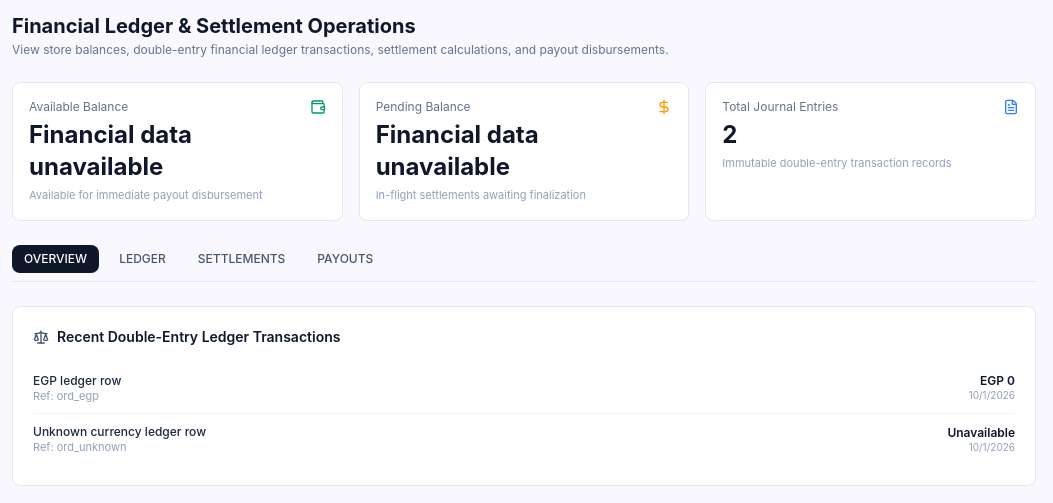
Test: SDS-1 — Seller Dashboard P0 Data Truth › Finance Currency Data Truth › uses each financial record currency and renders unavailable instead of missing-currency or error fallbacks
Expected: the text "Financial data unavailable" is shown 2 times, top-left (29, 120), bottom-right (192, 181); top-left (376, 120), bottom-right (539, 181)
Expected: the text "EGP 0" is shown, top-left (980, 373), bottom-right (1015, 388)
Click the button "SETTLEMENTS": {"x": 242, "y": 258} top-left (186, 244), bottom-right (297, 272)
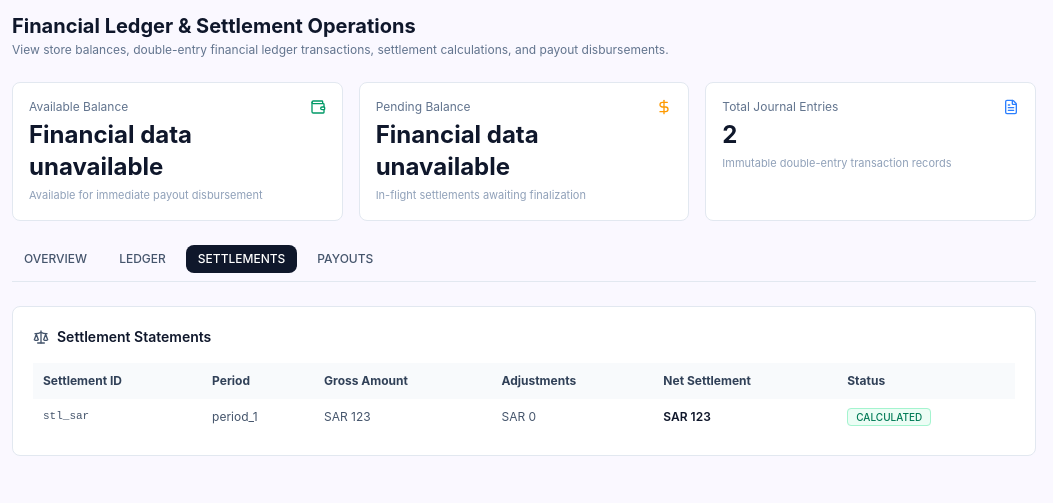
Expected: the text "SAR 123" is shown 2 times, top-left (314, 398), bottom-right (492, 434); top-left (653, 398), bottom-right (837, 434)
Click the button "PAYOUTS": {"x": 345, "y": 258} top-left (305, 244), bottom-right (385, 272)
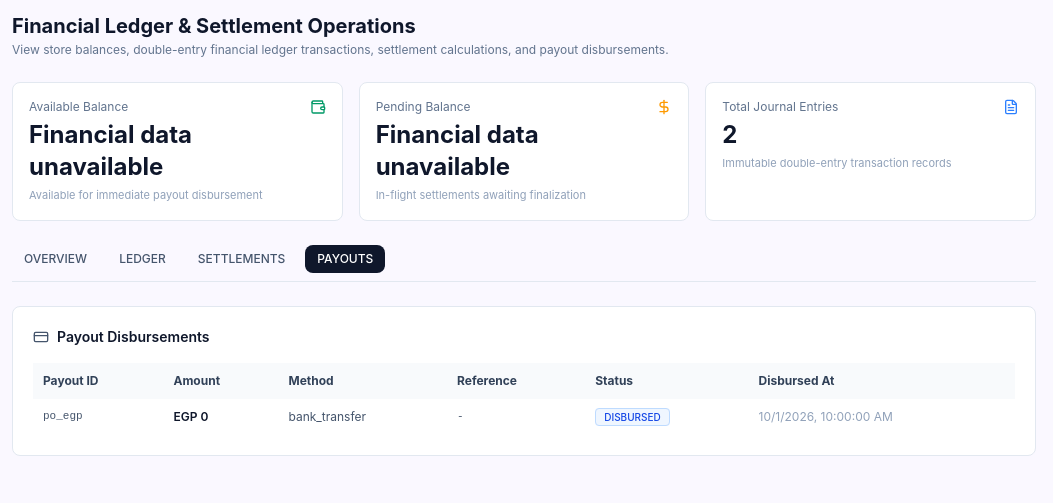
Expected: the text "EGP 0" is shown, top-left (163, 398), bottom-right (278, 434)
